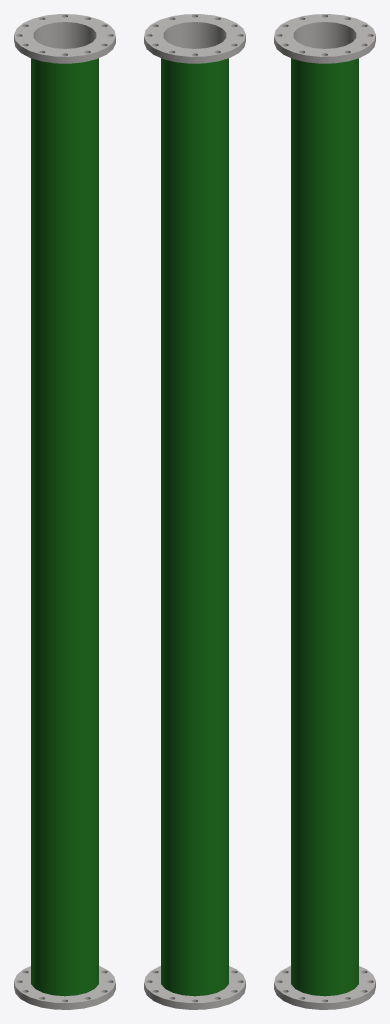
Rendered from (SBS) pipe length.glb.
3 views of the same model, side by side, from view 1: azimuth 30°, elevation 25°; view 2: azimuth 150°, elevation 25°; view 3: azimuth 330°, elevation 25° (orthographic).
Visible parts, largest first — view 1: Solid1; view 2: Solid1; view 3: Solid1.
Boxes of the visible parts, <box> form: Solid1: <box>14,14,115,1009</box>; Solid1: <box>144,14,245,1009</box>; Solid1: <box>274,14,375,1009</box>.
Size of the model in its own units: 0.405 by 4.18 by 0.4009.
